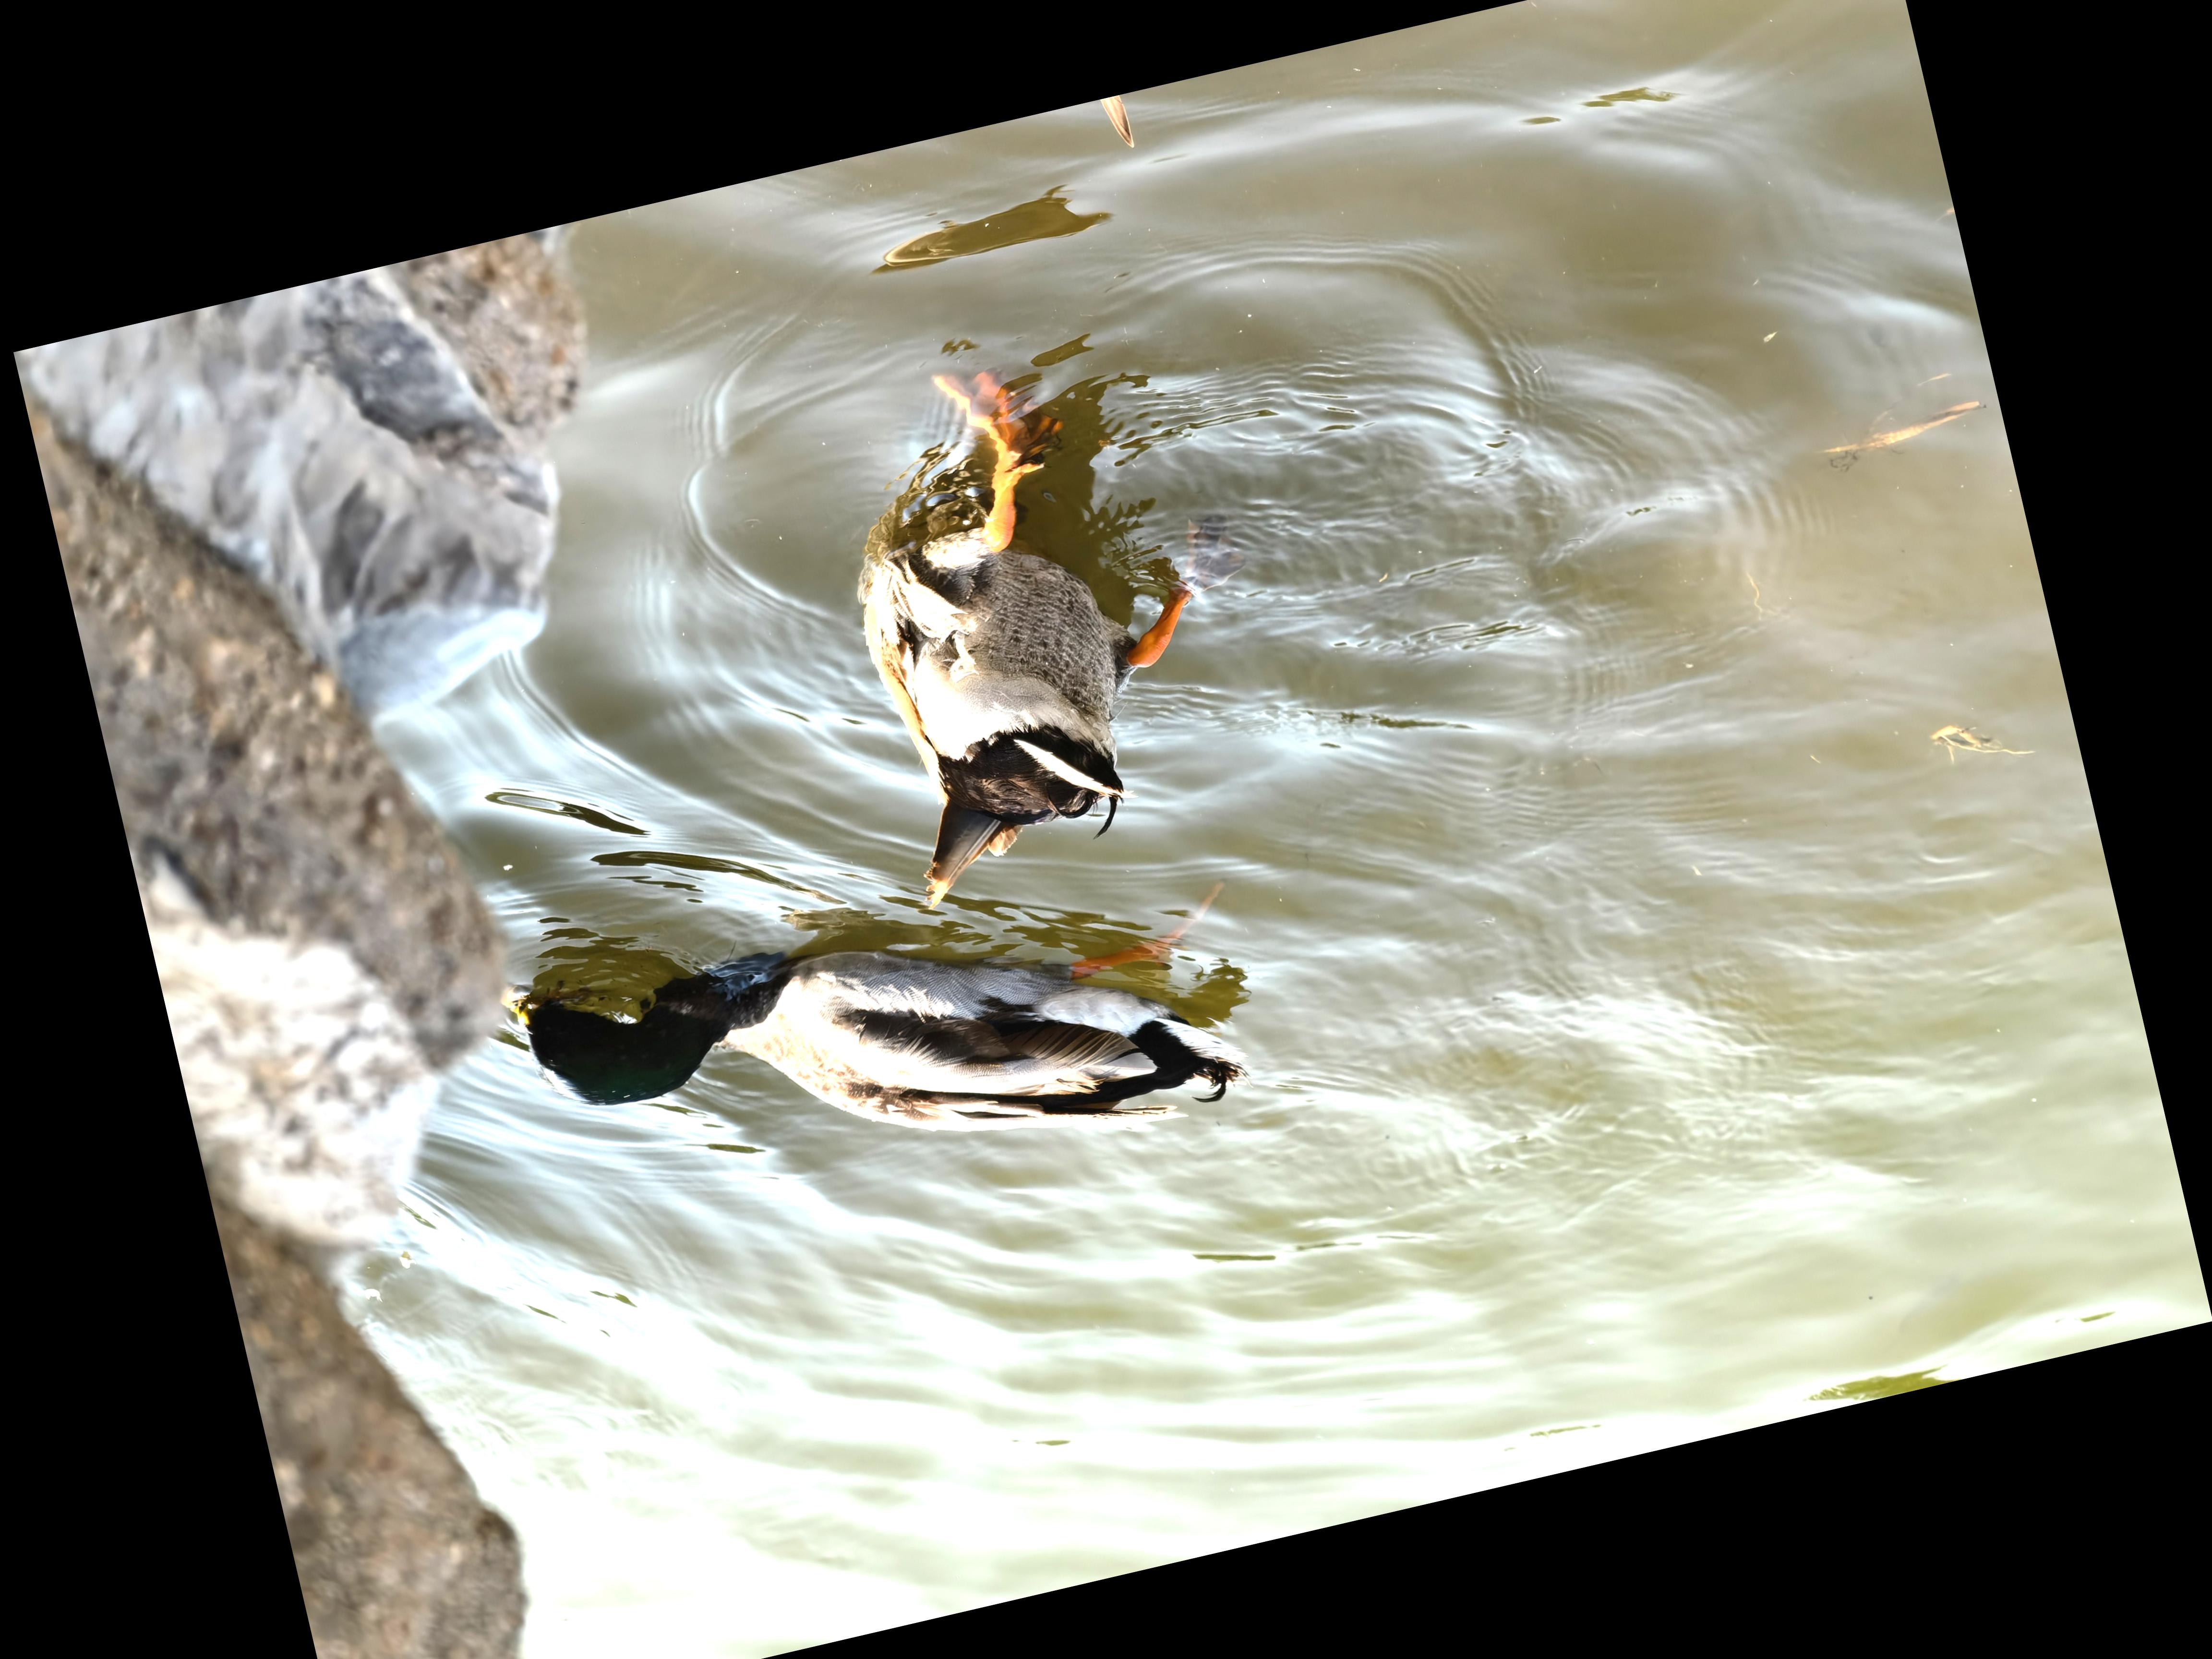duck: (439, 765, 1332, 1316), (754, 322, 1280, 934)
